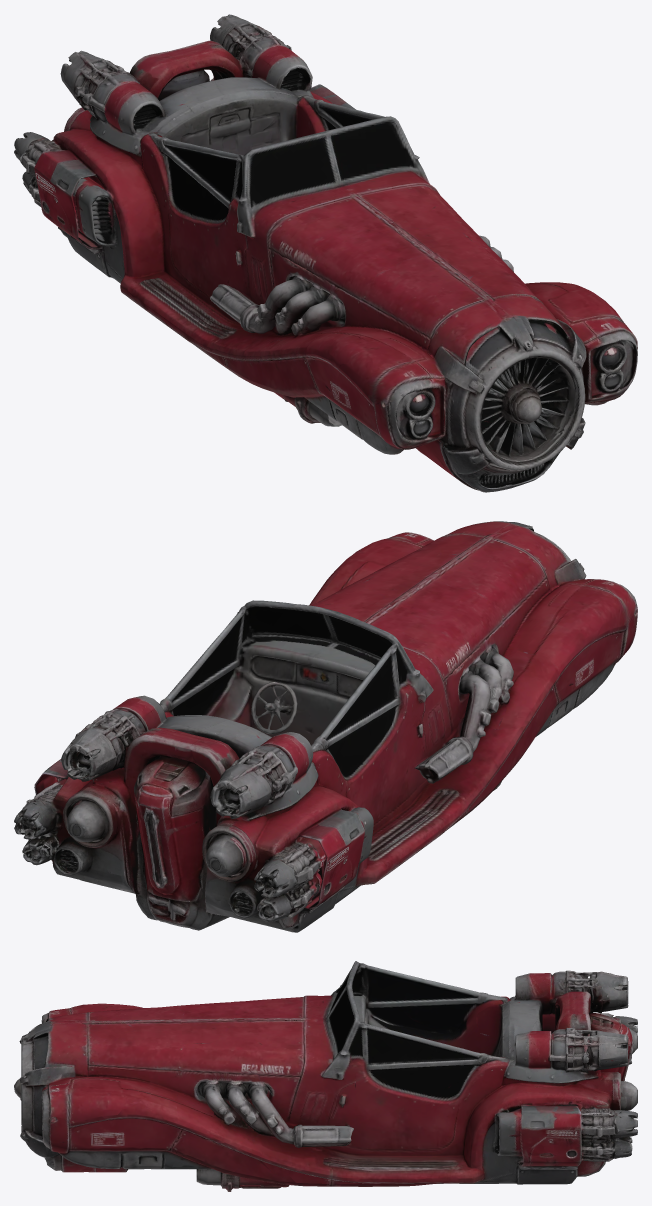
File: crimson_thunderjet_browser.v3.glb
3 renders of one model, top to bottom at view 1: azimuth 30°, elevation 25°; view 2: azimuth 150°, elevation 25°; view 3: azimuth 270°, elevation 25°, orthographic. The views are drawn at different scales.
Visible parts, largest first — view 1: crimson_thunderjet; view 2: crimson_thunderjet; view 3: crimson_thunderjet.
Part boxes in pixels (<box>): crimson_thunderjet: <box>14,14,637,492</box>; crimson_thunderjet: <box>14,521,637,932</box>; crimson_thunderjet: <box>14,961,637,1191</box>.
Size of the model in its own units: 3.68 by 2.77 by 8.4.
Materials: 1 (1 with a texture image).
